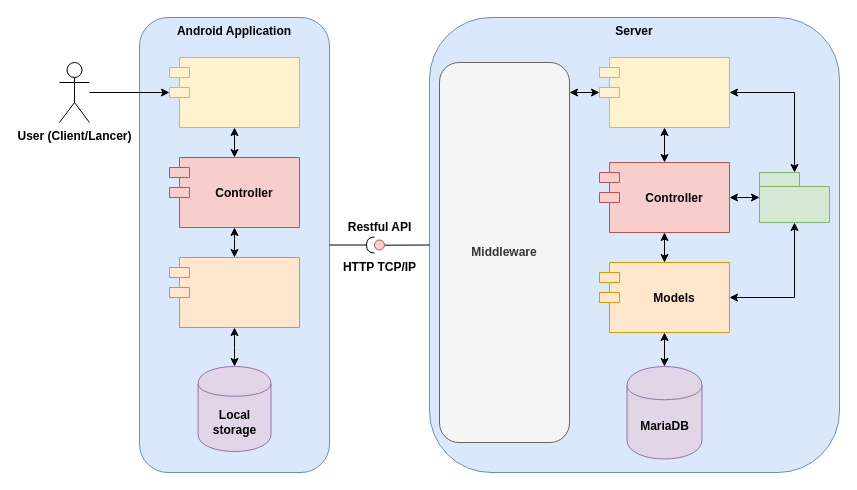
The diagram is 857 pixels wide and 490 high, and some of its shapes have lost their labels. The centre of each missing label's shape, as x and y in pixels:
"config" goes at point 794,197.
"GUI (XML files)" goes at point 234,92.
"Routes" goes at point 664,92.
"Services (Utils)" goes at point 234,292.
